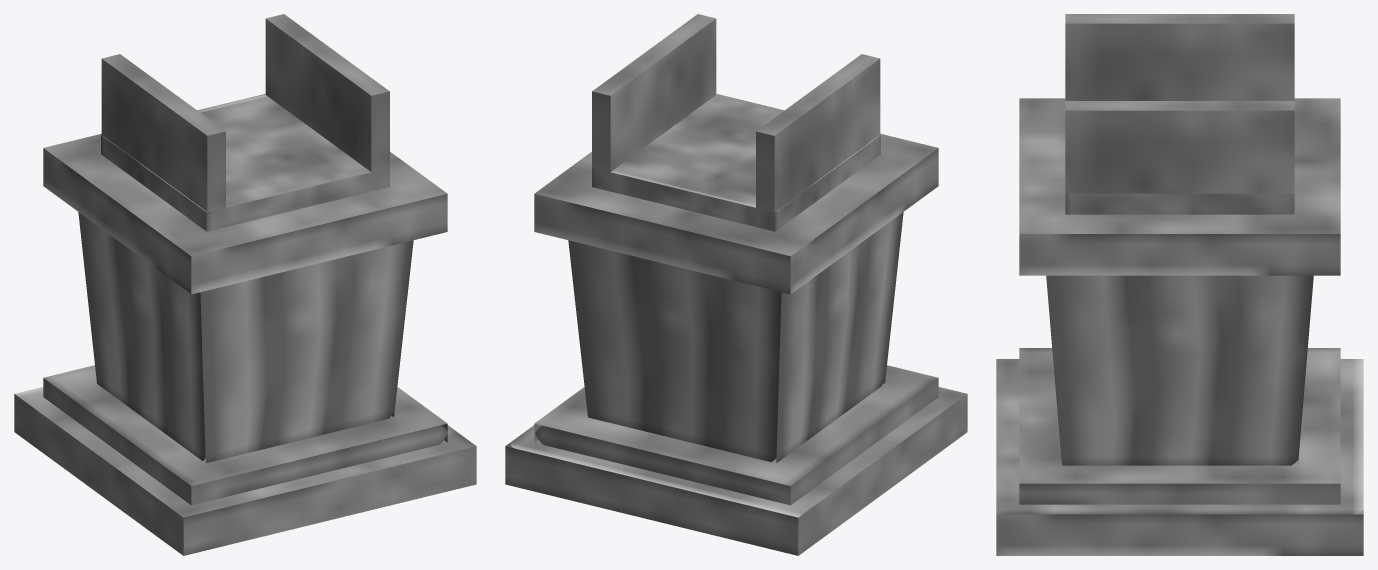
File: trashPillar.obj
3 renders of one model, left to right at view 1: azimuth 30°, elevation 25°; view 2: azimuth 150°, elevation 25°; view 3: azimuth 270°, elevation 25°, orthographic. The views are drawn at different scales.
Parts seen in each view (by area): view 1: TrashPillar, DoorsOpen, DoorsClosed; view 2: TrashPillar, DoorsOpen, DoorsClosed; view 3: TrashPillar, DoorsOpen, DoorsClosed.
Part boxes in pixels (box(x1,y1,x2,y2)): TrashPillar: box(14, 93, 476, 555); DoorsOpen: box(101, 14, 389, 231); DoorsClosed: box(101, 95, 389, 231); TrashPillar: box(505, 93, 967, 555); DoorsOpen: box(592, 14, 880, 231); DoorsClosed: box(592, 95, 880, 231); TrashPillar: box(996, 98, 1363, 555); DoorsOpen: box(1065, 14, 1294, 193); DoorsClosed: box(1065, 193, 1294, 214).
Bounding box in the file's own units: 39.37 × 49.21 × 39.37.
